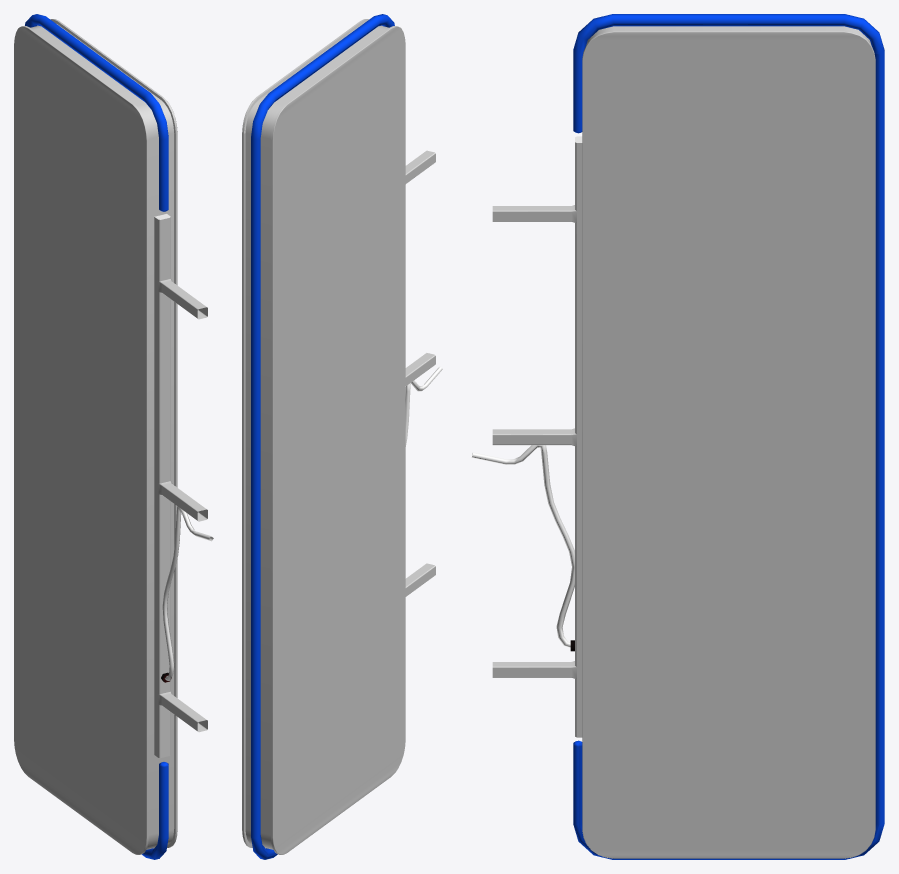
File: base_hoarding4.fbx
3 views of the same model, side by side, from view 1: azimuth 30°, elevation 25°; view 2: azimuth 150°, elevation 25°; view 3: azimuth 270°, elevation 25° (orthographic). The views are drawn at different scales.
Visible parts, largest first — view 1: sign_neon_small_vert; view 2: sign_neon_small_vert; view 3: sign_neon_small_vert.
Boxes of the visible parts, x1,y1,x2,y2 form: sign_neon_small_vert: (14, 14, 213, 859); sign_neon_small_vert: (242, 14, 442, 859); sign_neon_small_vert: (471, 14, 884, 859).
Size of the model in its own units: 4.45 by 103 by 45.62.
